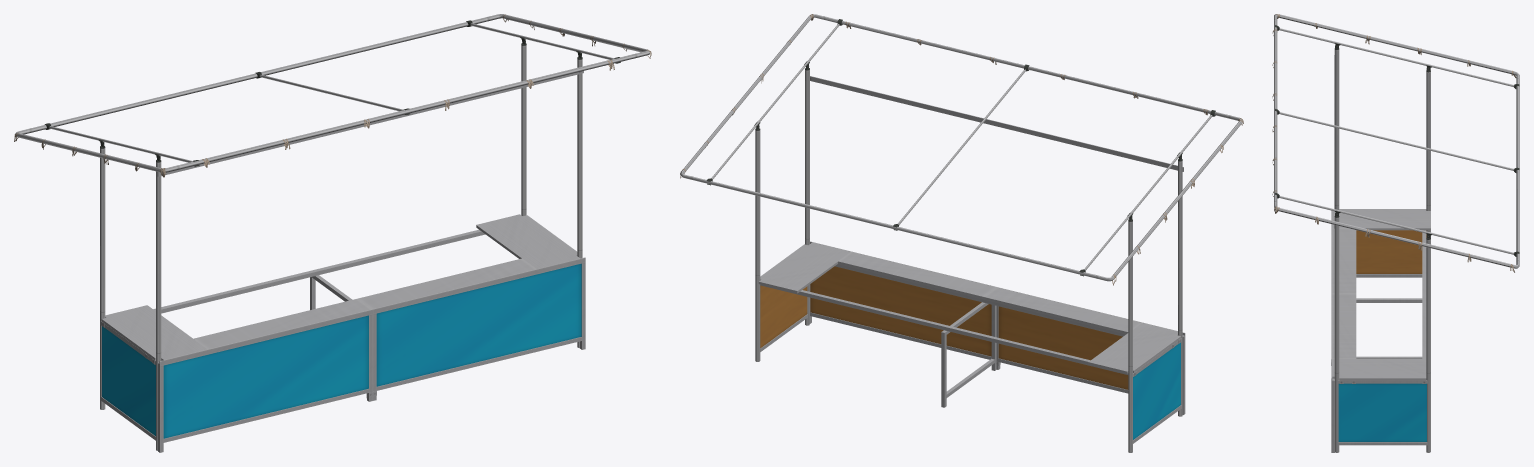
Rendered from jsf_4P_s04_c02_t03.fbx.
The picture shows the model from 3 angles, left to right: view 1: azimuth 30°, elevation 25°; view 2: azimuth 150°, elevation 25°; view 3: azimuth 270°, elevation 25°; orthographic projection. The views are drawn at different scales.
Parts seen in each view (by area): view 1: Base_s04_c02, Pillar4_s04, Table_4P_s04_t03, Rope_4P_s04; view 2: Base_s04_c02, Pillar4_s04, Table_4P_s04_t03, Support; view 3: Pillar4_s04, Base_s04_c02, Table_4P_s04_t03, Support, Rope_4P_s04.
Part boxes in pixels (x1,y1,x2,y2): Base_s04_c02: (100, 257, 585, 452); Pillar4_s04: (14, 14, 649, 450); Table_4P_s04_t03: (101, 214, 579, 364); Rope_4P_s04: (14, 14, 651, 177); Base_s04_c02: (760, 241, 1185, 443); Pillar4_s04: (680, 14, 1242, 452); Table_4P_s04_t03: (758, 242, 1181, 376); Support: (941, 302, 996, 407); Pillar4_s04: (1274, 14, 1519, 452); Base_s04_c02: (1331, 210, 1427, 452); Table_4P_s04_t03: (1332, 209, 1430, 383); Support: (1356, 298, 1422, 358); Rope_4P_s04: (1272, 14, 1516, 272).
Size of the model in its own units: 395 by 243 by 211.
